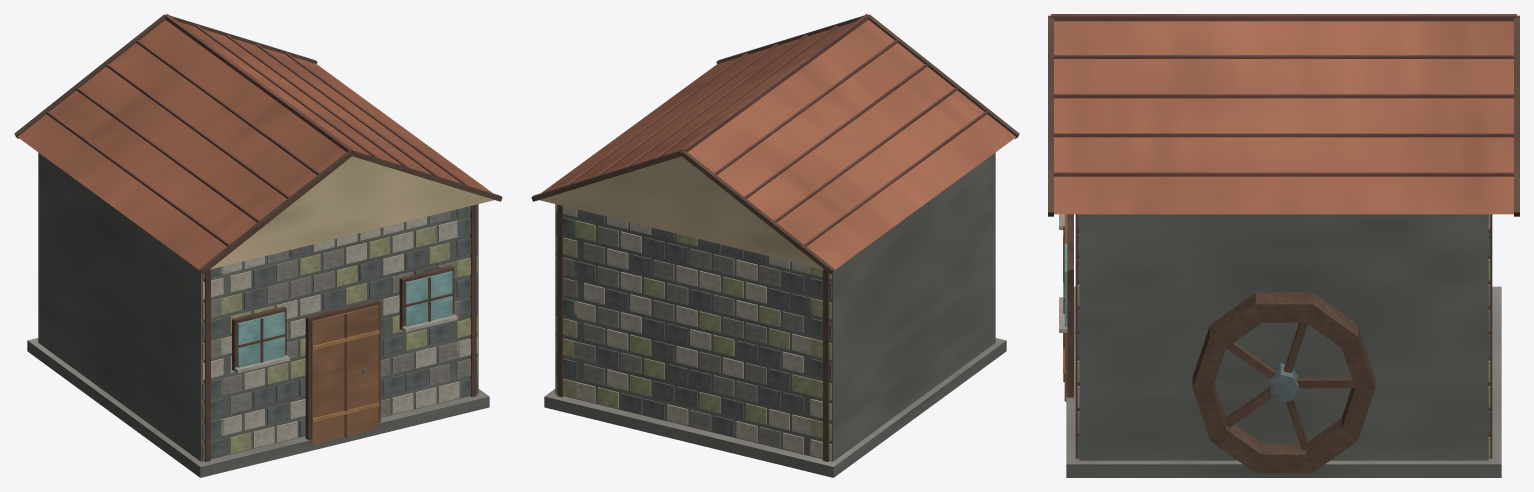
File: watermill.fbx
3 views of the same model, side by side, from view 1: azimuth 30°, elevation 25°; view 2: azimuth 150°, elevation 25°; view 3: azimuth 270°, elevation 25° (orthographic). The views are drawn at different scales.
Parts seen in each view (by area): view 1: watermill; view 2: watermill; view 3: watermill.
Part boxes in pixels (left/top/right/bottom): watermill: left=14, top=14, right=502, bottom=477; watermill: left=531, top=14, right=1019, bottom=477; watermill: left=1048, top=14, right=1519, bottom=477.
Bounding box in the file's own units: 800 × 700 × 800.
2 materials, 2 textured.
